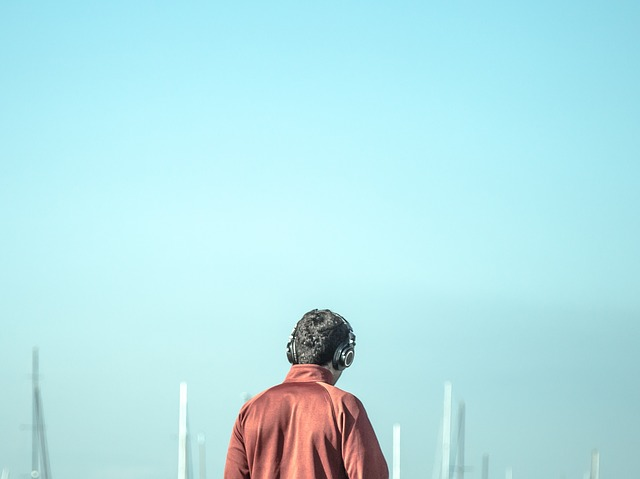headphones: (287, 313, 356, 373)
